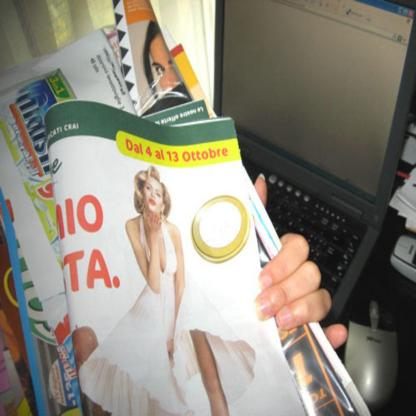board: (236, 7, 413, 352)
